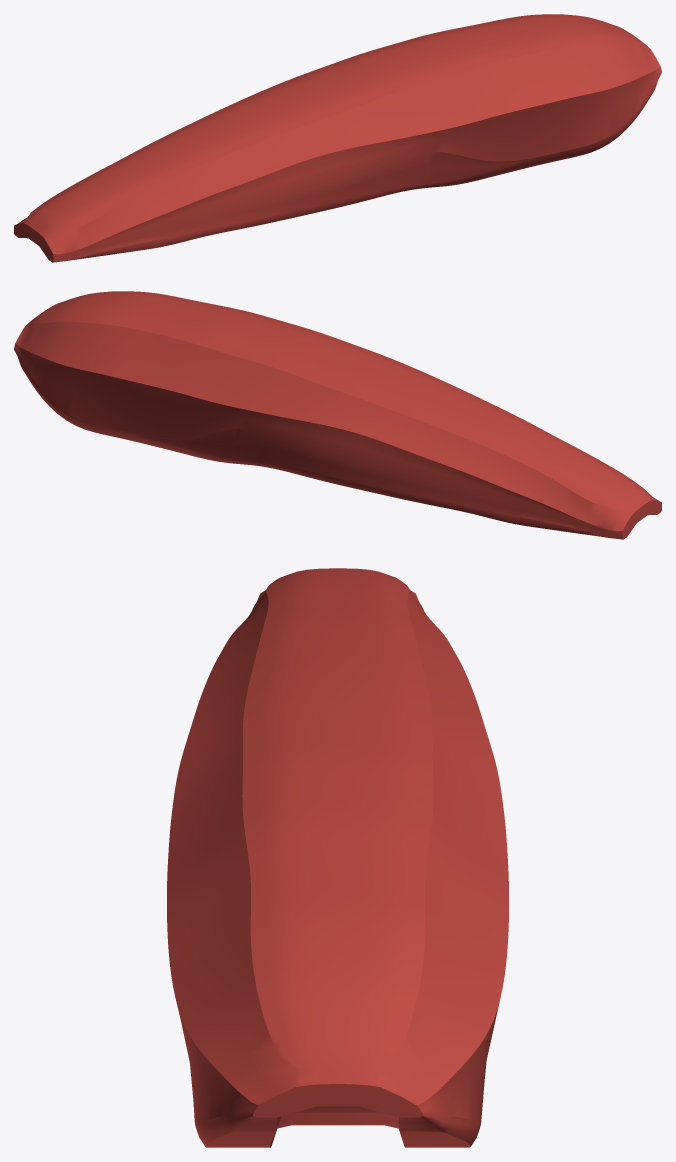
The model's file is bobber_3_lod1.glb.
The picture shows the model from 3 angles, top to bottom: view 1: azimuth 30°, elevation 25°; view 2: azimuth 150°, elevation 25°; view 3: azimuth 270°, elevation 25°; orthographic projection. The views are drawn at different scales.
Parts seen in each view (by area): view 1: bobber_3_lod1; view 2: bobber_3_lod1; view 3: bobber_3_lod1.
Part boxes in pixels (x1,y1,x2,y2): bobber_3_lod1: [14, 14, 661, 262]; bobber_3_lod1: [14, 291, 661, 539]; bobber_3_lod1: [167, 568, 508, 1147].
Bounding box in the file's own units: 1.06 × 0.1863 × 0.2599.
